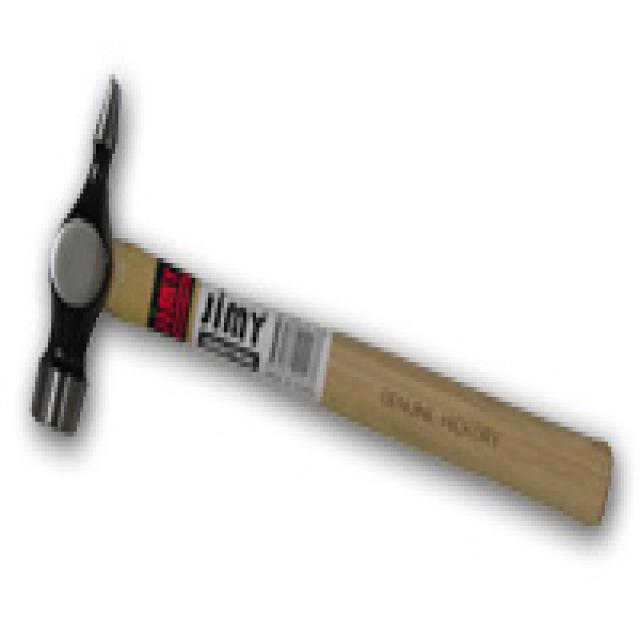hammer: (20, 57, 613, 536)
